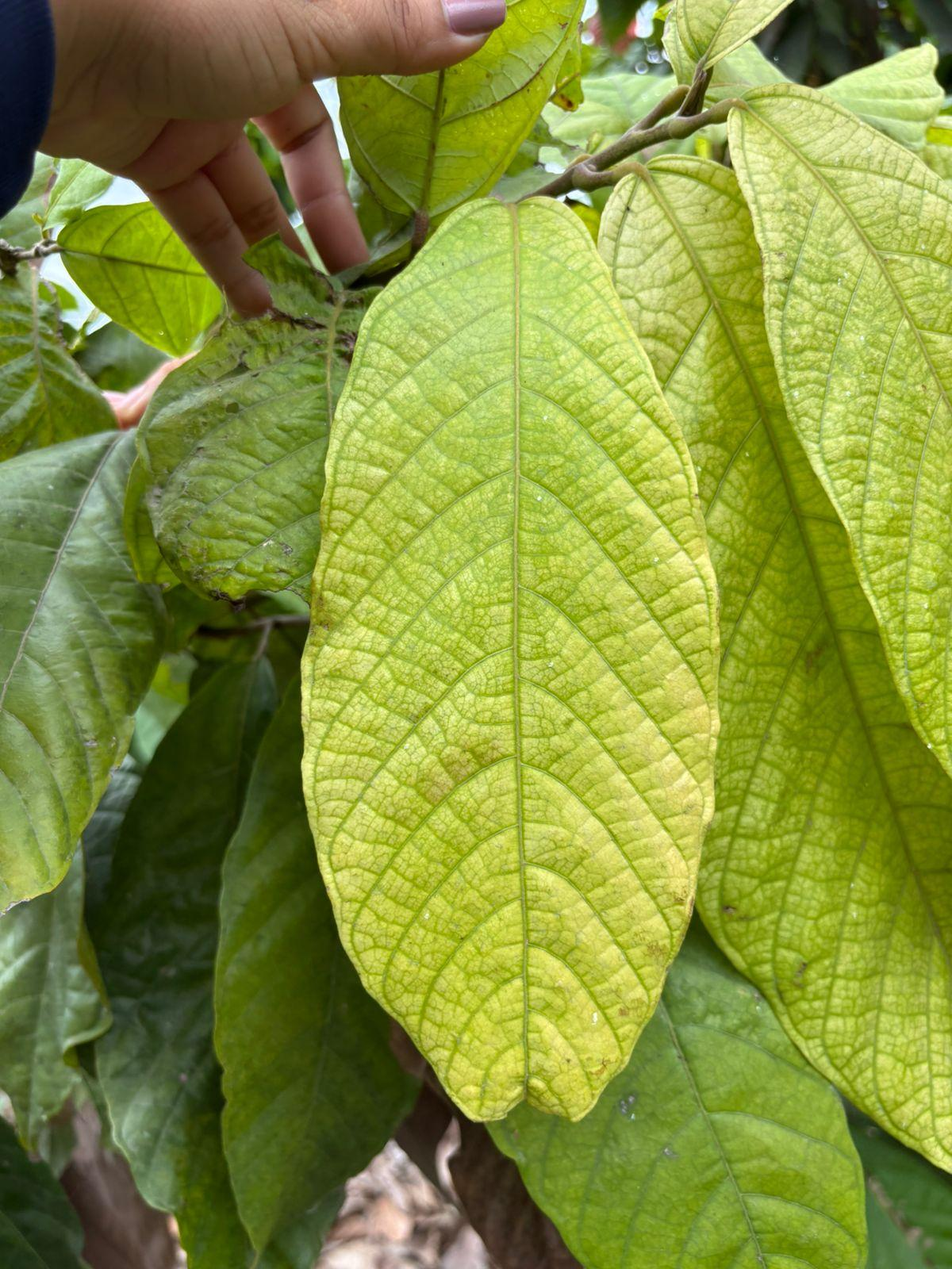Nitrogeno: (301, 200, 718, 1119), (729, 84, 951, 771)
